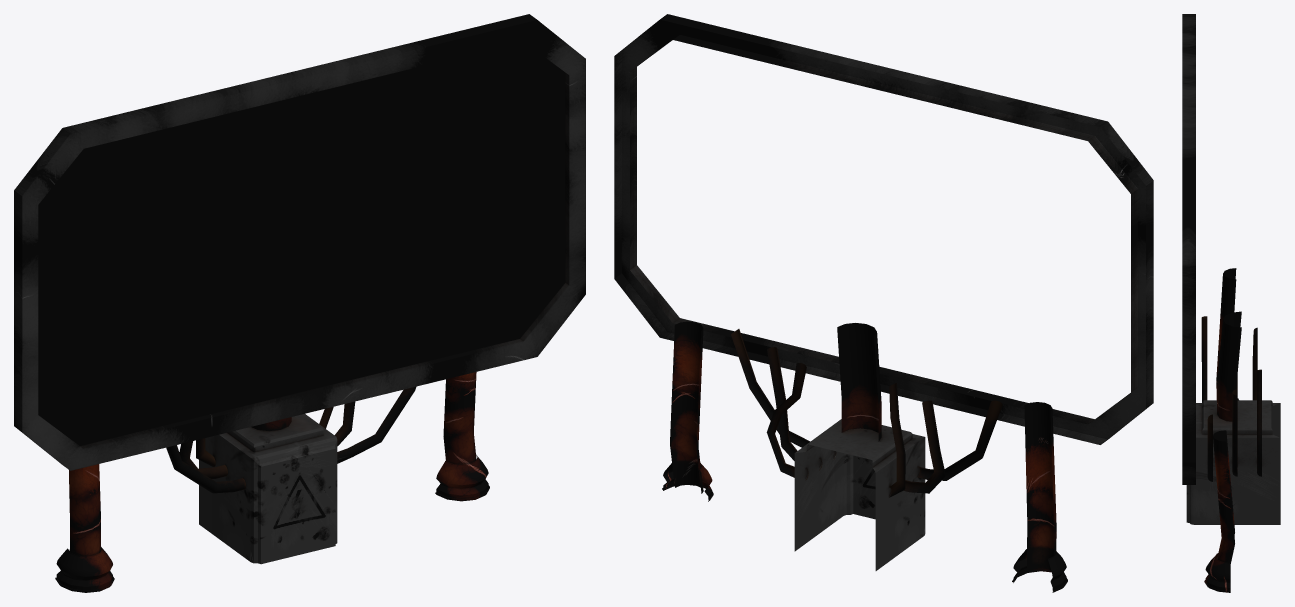
File: Terminal Nuclear.fbx
3 renders of one model, left to right at view 1: azimuth 30°, elevation 25°; view 2: azimuth 150°, elevation 25°; view 3: azimuth 270°, elevation 25°, orthographic. The views are drawn at different scales.
Visible parts, largest first — view 1: Terminal_Sala nucleo; view 2: Terminal_Sala nucleo; view 3: Terminal_Sala nucleo.
Boxes of the visible parts, bbox=[...] form: Terminal_Sala nucleo: bbox=[14, 14, 585, 592]; Terminal_Sala nucleo: bbox=[614, 14, 1153, 592]; Terminal_Sala nucleo: bbox=[1182, 14, 1280, 592].
Size of the model in its own units: 566 by 460 by 102.
Materials: 2 (2 with a texture image).
